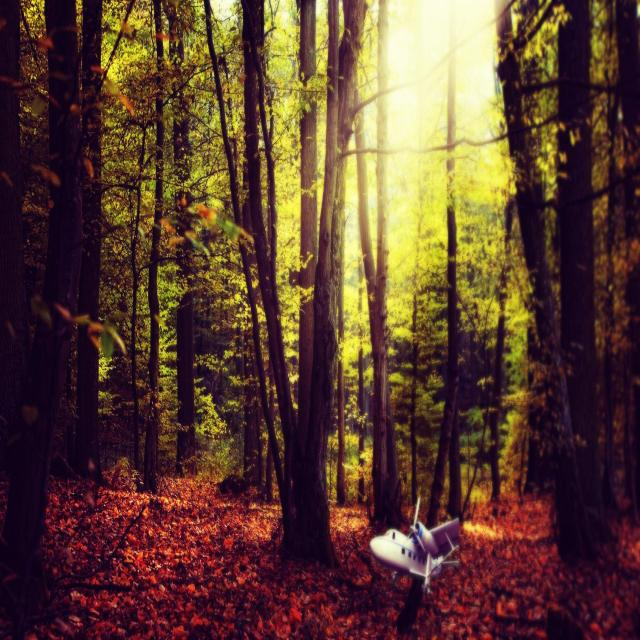airplane: (368, 495, 461, 595)
